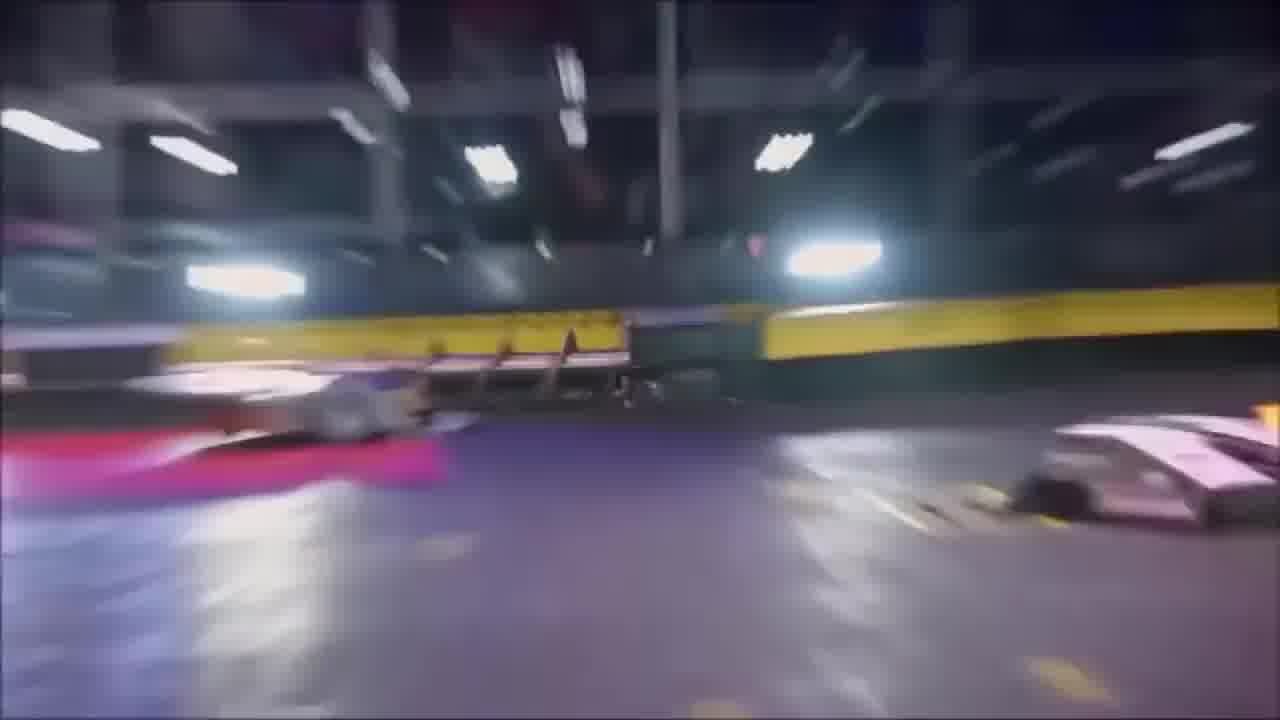combatbot: (13, 314, 482, 517), (1009, 400, 1280, 538)
